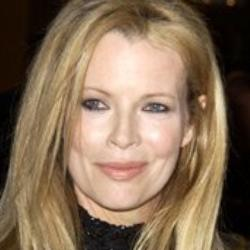face: (14, 3, 234, 226)
